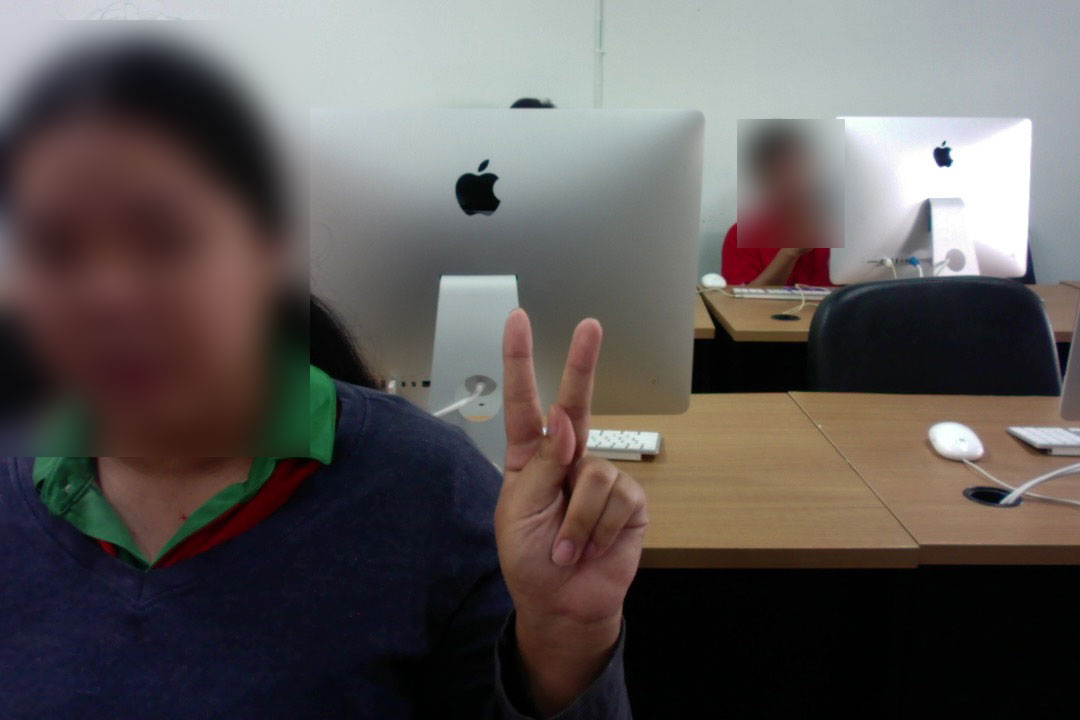ko: (480, 293, 653, 658)
